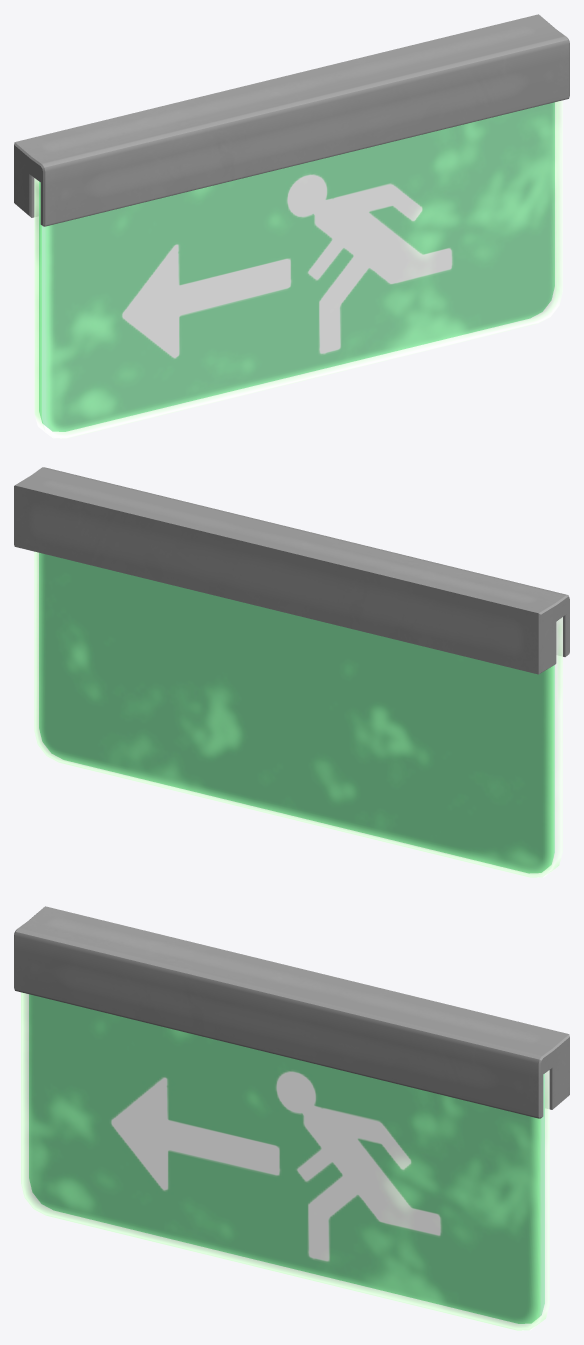
Rendered from exit_sign (1).glb.
3 renders of one model, top to bottom at view 1: azimuth 30°, elevation 25°; view 2: azimuth 150°, elevation 25°; view 3: azimuth 330°, elevation 25°, orthographic.
Parts seen in each view (by area): view 1: Glass_Low, Sign_Low, Joint_Low; view 2: Glass_Low, Sign_Low, Joint_Low; view 3: Glass_Low, Sign_Low, Joint_Low.
Boxes of the visible parts, x1,y1,x2,y2 form: Glass_Low: [34, 100, 562, 438]; Sign_Low: [39, 102, 554, 431]; Joint_Low: [14, 14, 569, 226]; Glass_Low: [34, 551, 562, 877]; Sign_Low: [39, 553, 554, 873]; Joint_Low: [14, 467, 569, 674]; Glass_Low: [21, 992, 549, 1330]; Sign_Low: [29, 994, 544, 1323]; Joint_Low: [14, 906, 569, 1118].
Size of the model in its own units: 33.82 by 17.46 by 3.41.
Materials: 1 (1 with a texture image).
